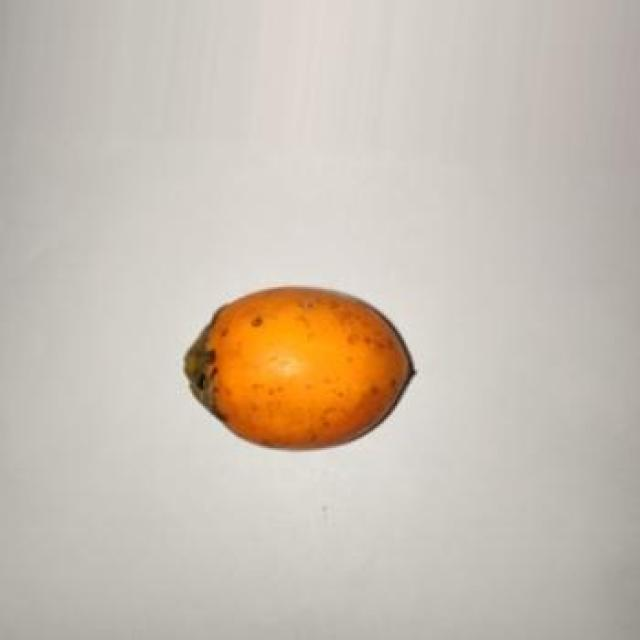good: (183, 287, 417, 453)
